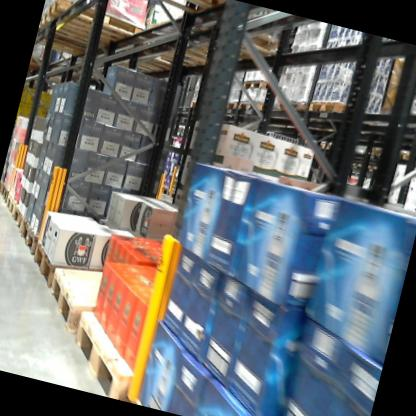pallet: (39, 251, 147, 352), (63, 305, 161, 404), (23, 233, 130, 304), (188, 6, 292, 69), (45, 0, 157, 51), (36, 10, 127, 61), (100, 0, 238, 33), (148, 24, 224, 75), (306, 94, 367, 133), (12, 214, 44, 261), (273, 93, 310, 122), (241, 69, 280, 96), (0, 188, 25, 225), (234, 97, 268, 123), (8, 200, 30, 235), (214, 94, 243, 119), (0, 179, 12, 204), (0, 176, 5, 192)
